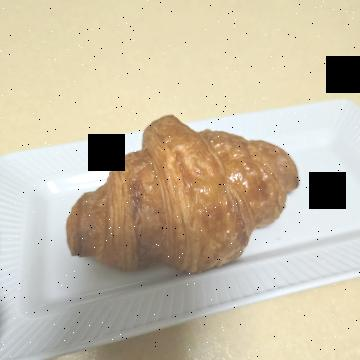croissant: (111, 60, 287, 310)
